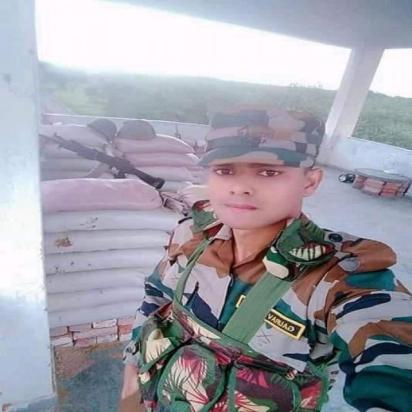Gun: (37, 130, 168, 192)
